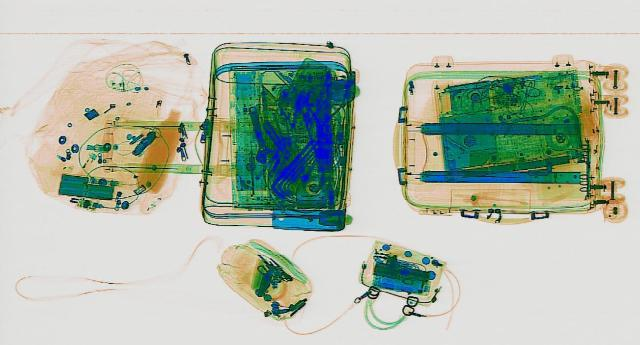Wrench: (239, 104, 277, 163)
